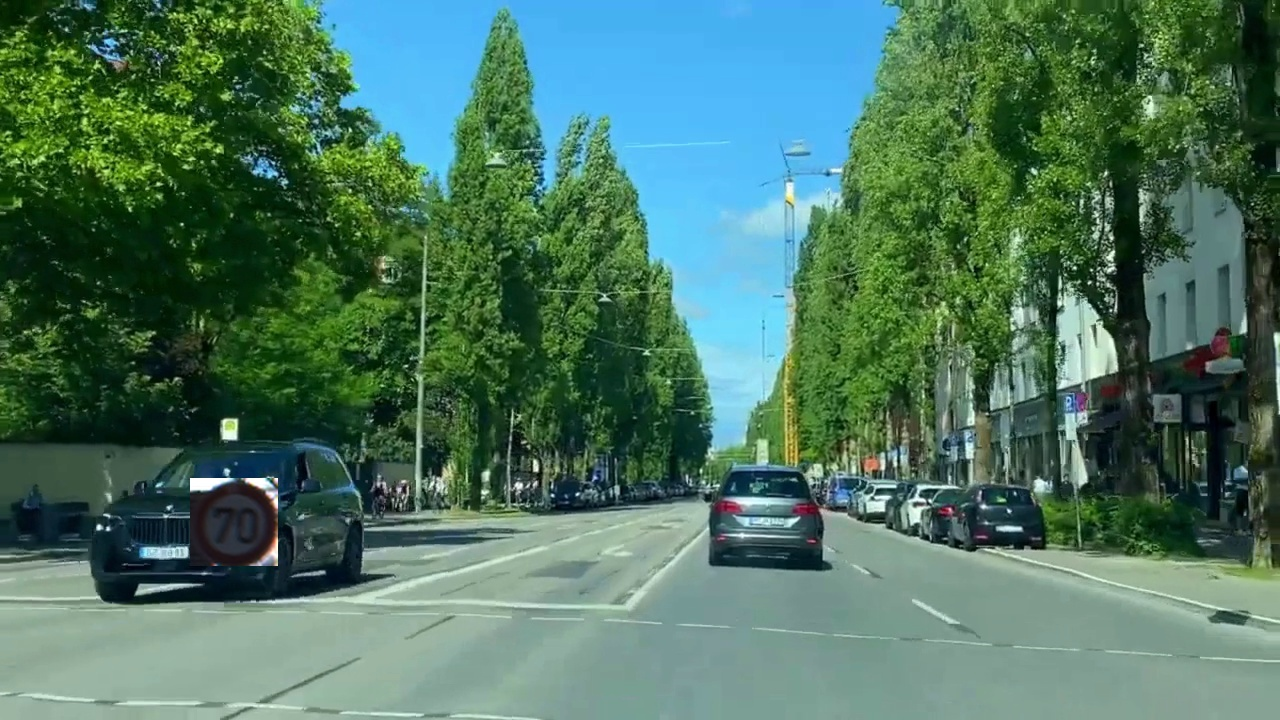Speed 70: (190, 478, 278, 566)
